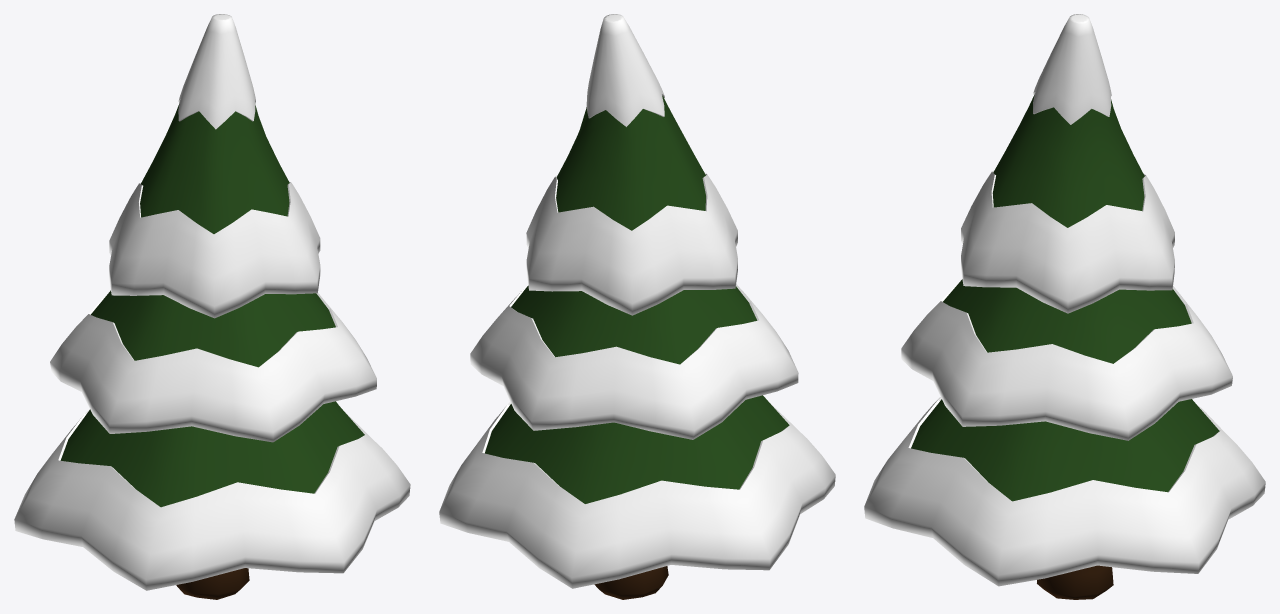
File: joliarbre.FBX
3 renders of one model, left to right at view 1: azimuth 30°, elevation 25°; view 2: azimuth 150°, elevation 25°; view 3: azimuth 270°, elevation 25°, orthographic.
Visible parts, largest first — view 1: Cone010; view 2: Cone010; view 3: Cone010.
Boxes of the visible parts, <box> form: Cone010: <box>14,14,410,599</box>; Cone010: <box>439,14,835,599</box>; Cone010: <box>864,14,1265,599</box>.
Size of the model in its own units: 132 by 217 by 136.
